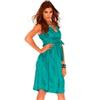vestito: (34, 26, 64, 94)
